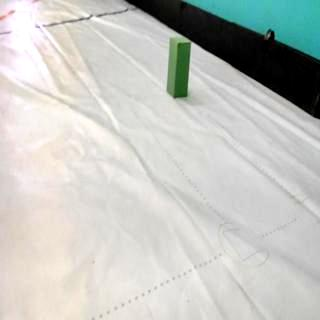greenbox: (165, 35, 192, 99)
